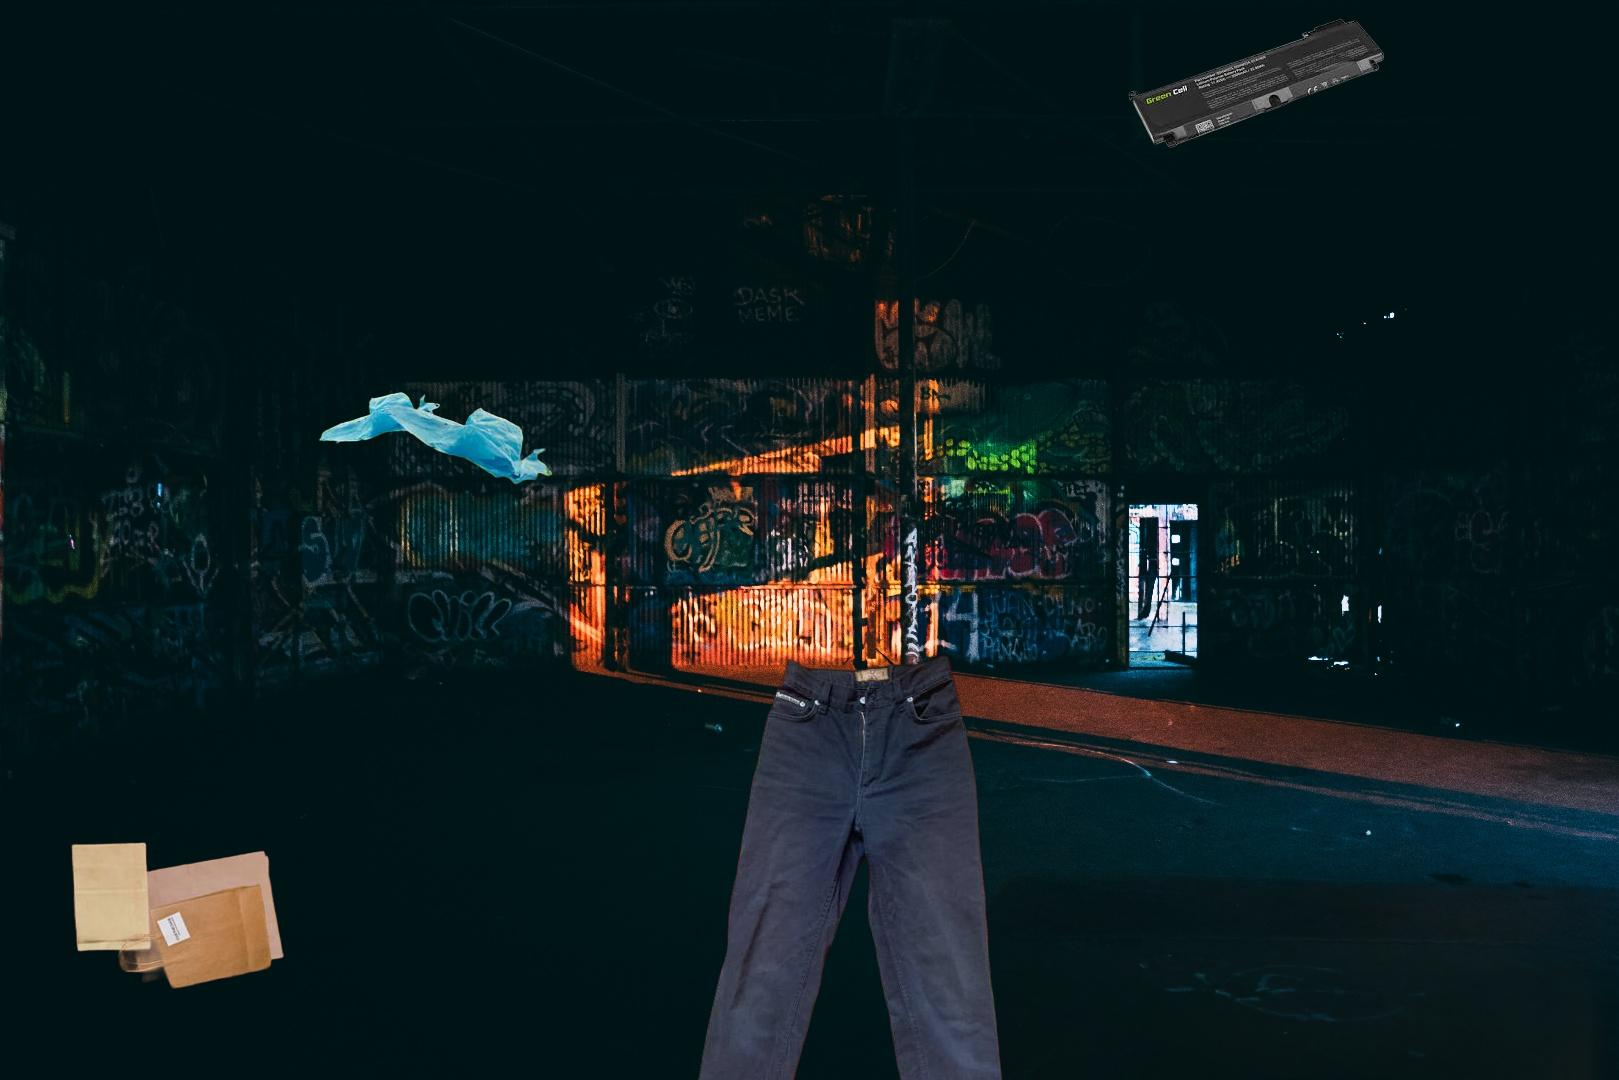battery: (1127, 16, 1386, 150)
clothes: (687, 641, 1009, 1080)
paper-bag: (71, 839, 287, 993)
plastic-bag: (316, 389, 557, 488)
trashbox-cardboard: (722, 840, 1619, 1080)
